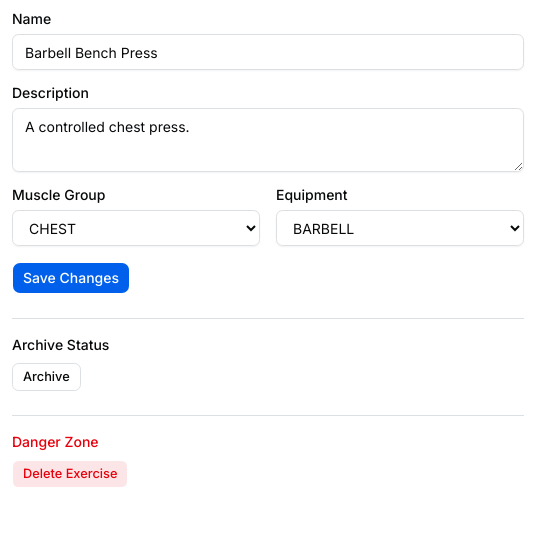
Test: EditExerciseForm › editExerciseForm_deleteFails_showsServerErrorAndDoesNotNavigate
The image size is (541, 558).
Click the button "Delete Exercise".
click(70, 474)  # box [12,460,128,488]
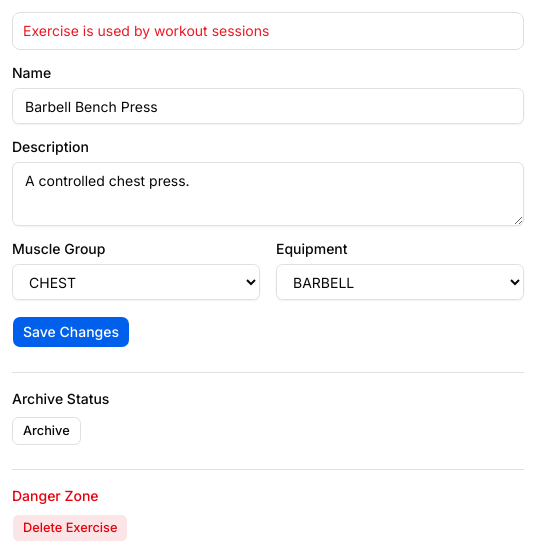
Expected: the text "Exercise is used by workout sessions" is shown, [23,22,269,39]
